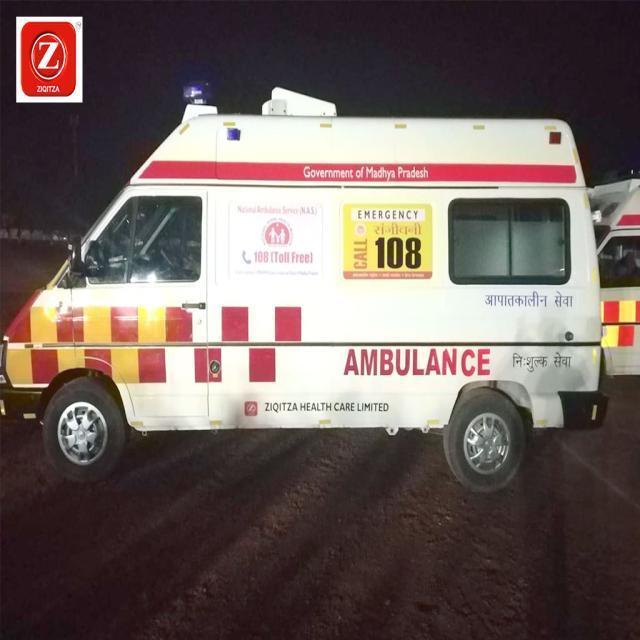Ambulance: (339, 346, 496, 380), (374, 233, 426, 272)
